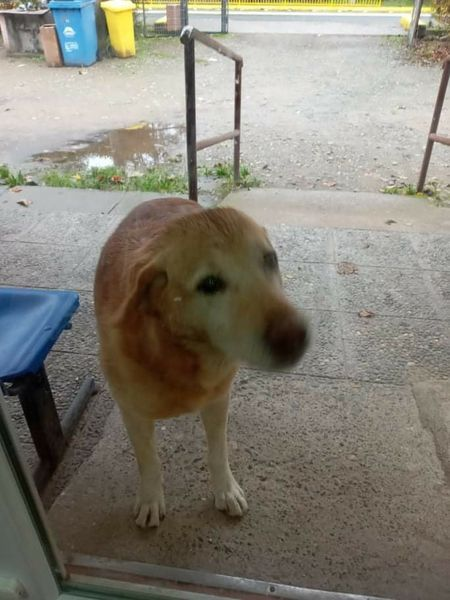dog: (78, 186, 316, 544)
